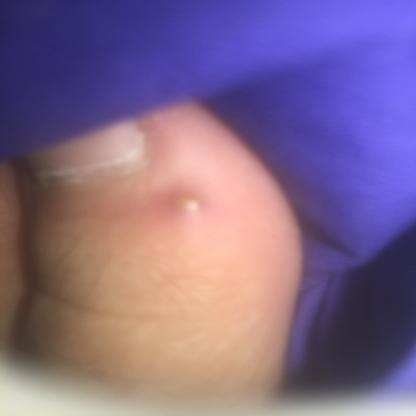Fire ant: (368, 18, 378, 21)
